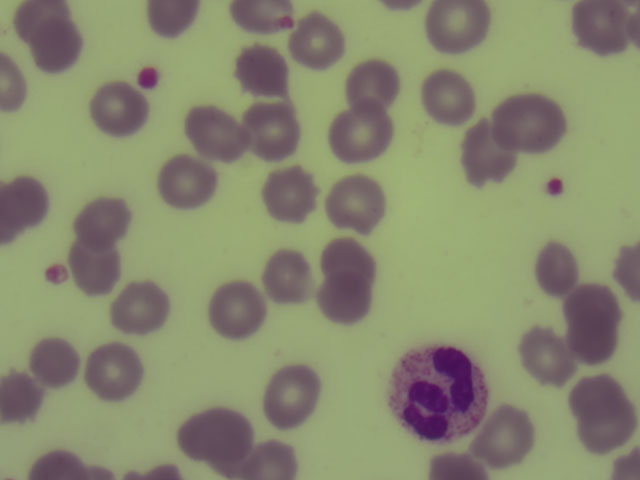Platelets: (137, 66, 158, 87), (44, 268, 65, 284), (544, 180, 562, 198)
RBC: (495, 93, 573, 157), (177, 407, 251, 470), (579, 412, 640, 479), (262, 364, 324, 427), (573, 1, 639, 60), (477, 408, 535, 465), (155, 154, 215, 206), (312, 272, 372, 324), (317, 237, 377, 289), (327, 175, 387, 227), (343, 59, 403, 111), (249, 104, 309, 156), (186, 107, 246, 159), (331, 108, 391, 160), (458, 129, 518, 181), (420, 71, 480, 123), (264, 167, 324, 219), (284, 13, 344, 65), (258, 250, 318, 302), (69, 242, 129, 294), (72, 198, 132, 250), (86, 344, 146, 396), (28, 334, 88, 386), (111, 280, 171, 332), (26, 22, 86, 74), (426, 1, 489, 50), (1, 369, 60, 421), (1, 176, 60, 228), (90, 84, 150, 135), (17, 1, 77, 52), (534, 234, 582, 296), (572, 300, 620, 362), (522, 324, 570, 386), (211, 282, 262, 337), (571, 376, 626, 424), (234, 1, 295, 39), (247, 438, 301, 480), (143, 1, 195, 38), (32, 444, 85, 480), (124, 451, 183, 480), (1, 59, 32, 114), (610, 240, 640, 295), (434, 449, 483, 480), (380, 1, 430, 18)
WBC: (391, 350, 489, 444)
